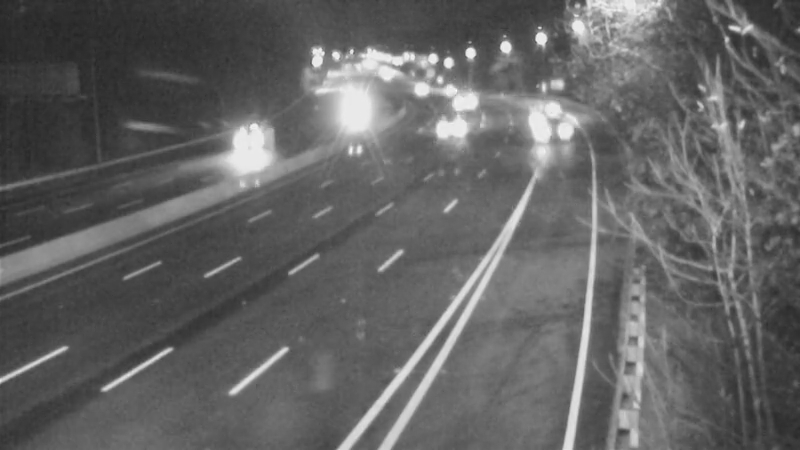vehicle: (424, 69, 474, 119), (394, 63, 444, 113), (436, 78, 486, 128), (526, 99, 576, 149), (429, 102, 479, 152), (218, 120, 268, 170), (327, 85, 377, 135)
